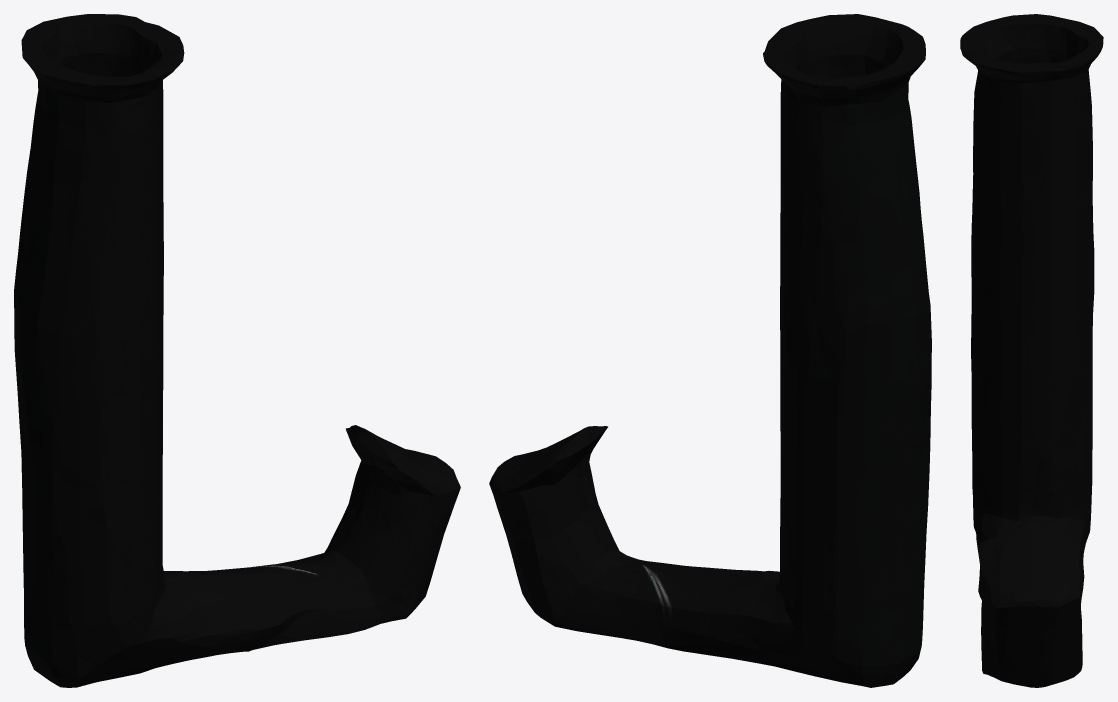
Rendered from letterL.fbx.
The picture shows the model from 3 angles, left to right: view 1: azimuth 30°, elevation 25°; view 2: azimuth 150°, elevation 25°; view 3: azimuth 270°, elevation 25°; orthographic projection. The views are drawn at different scales.
Visible parts, largest first — view 1: temp; view 2: temp; view 3: temp.
Part boxes in pixels (x1,y1,x2,y2): temp: [14, 14, 460, 687]; temp: [489, 14, 931, 687]; temp: [960, 14, 1103, 687].
Size of the model in its own units: 141 by 198 by 49.41.
Materials: 1 (1 with a texture image).
